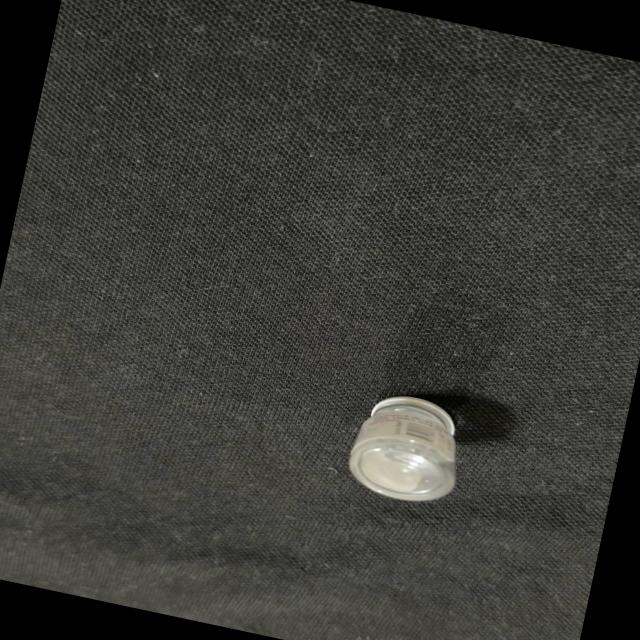fentanl_citrat: (344, 388, 468, 506)
